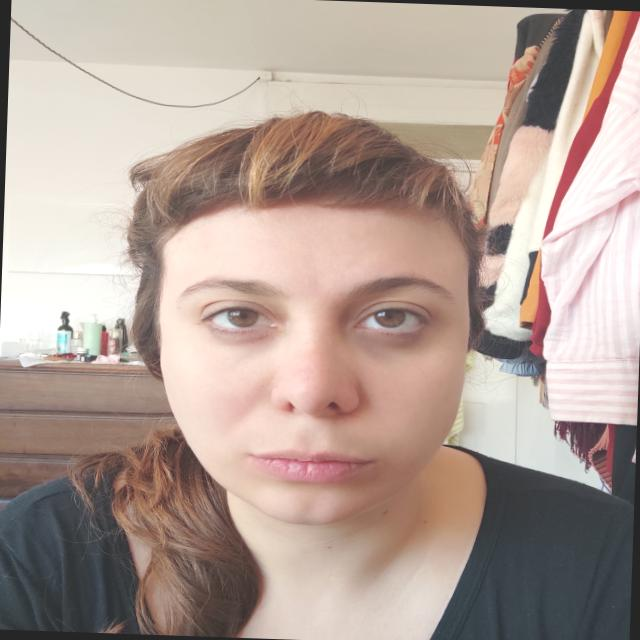eyebrow: (350, 277, 456, 306), (176, 279, 285, 298)
